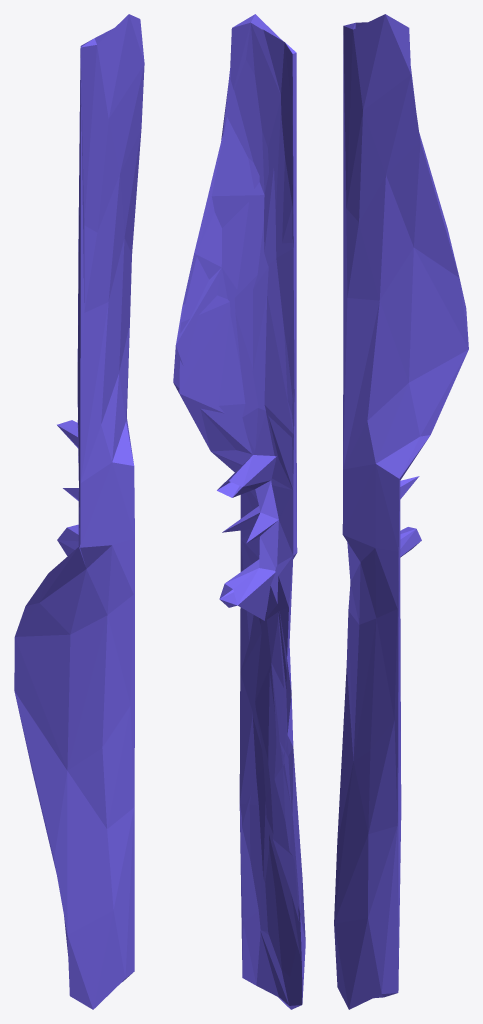
Rendered from propeller_ccw_purple.dae.
The picture shows the model from 3 angles, left to right: view 1: azimuth 30°, elevation 25°; view 2: azimuth 150°, elevation 25°; view 3: azimuth 330°, elevation 25°; orthographic projection.
Visible parts, largest first — view 1: propeller_ccw_purple; view 2: propeller_ccw_purple; view 3: propeller_ccw_purple.
Part boxes in pixels (<box>): propeller_ccw_purple: <box>14,14,144,1009</box>; propeller_ccw_purple: <box>173,14,305,1009</box>; propeller_ccw_purple: <box>334,14,468,1009</box>.
Size of the model in its own units: 0.2506 by 0.1682 by 2.01.
